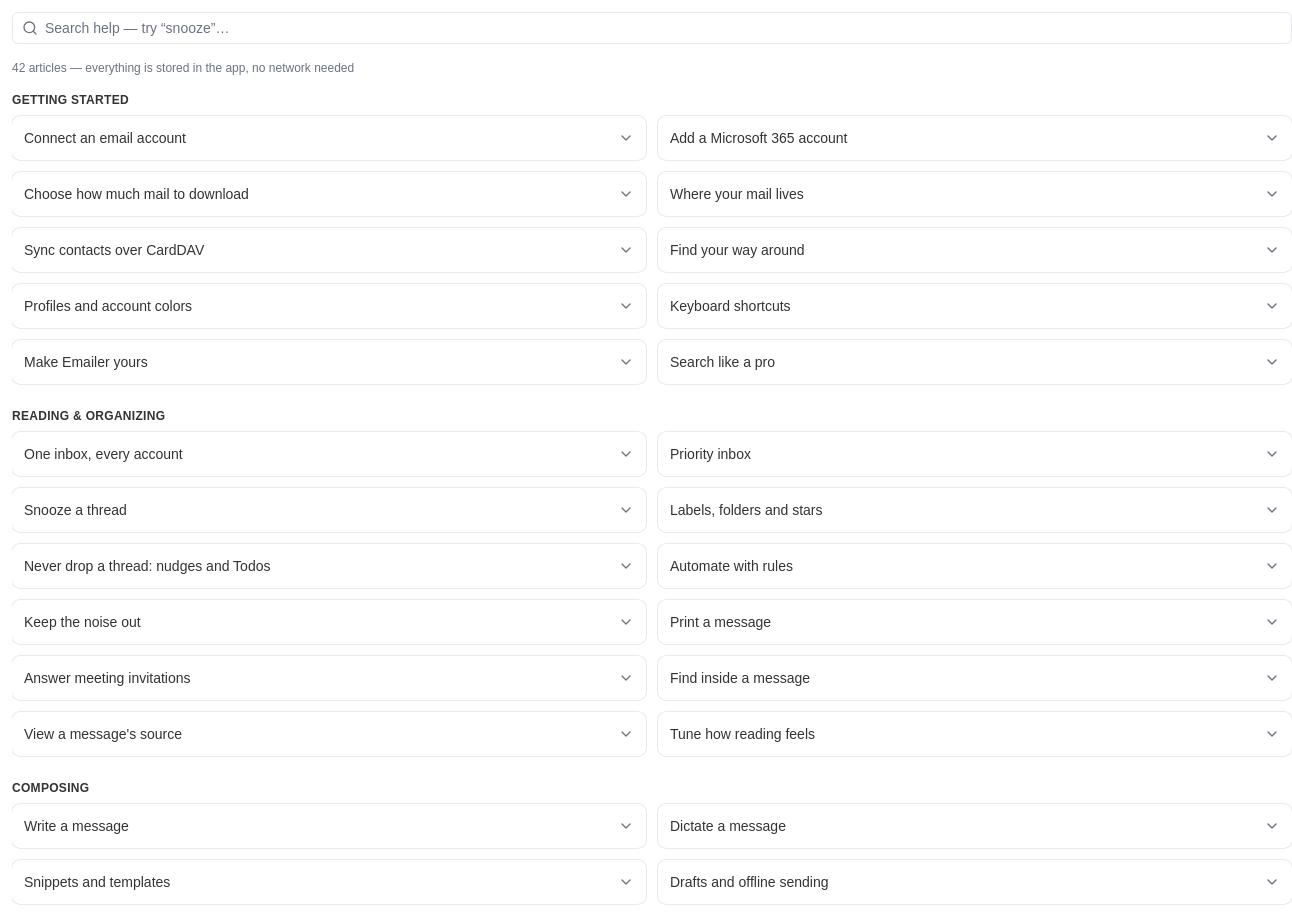
Test: HelpCenter › the shortcuts card shows the effective bindings (overrides included)
What coordinates should you click on to do the following:
click the button with test id "help-card-toggle-keyboard-shortcuts"
I would click on:
 (730, 306)
Its box is [658,284,1291,328].
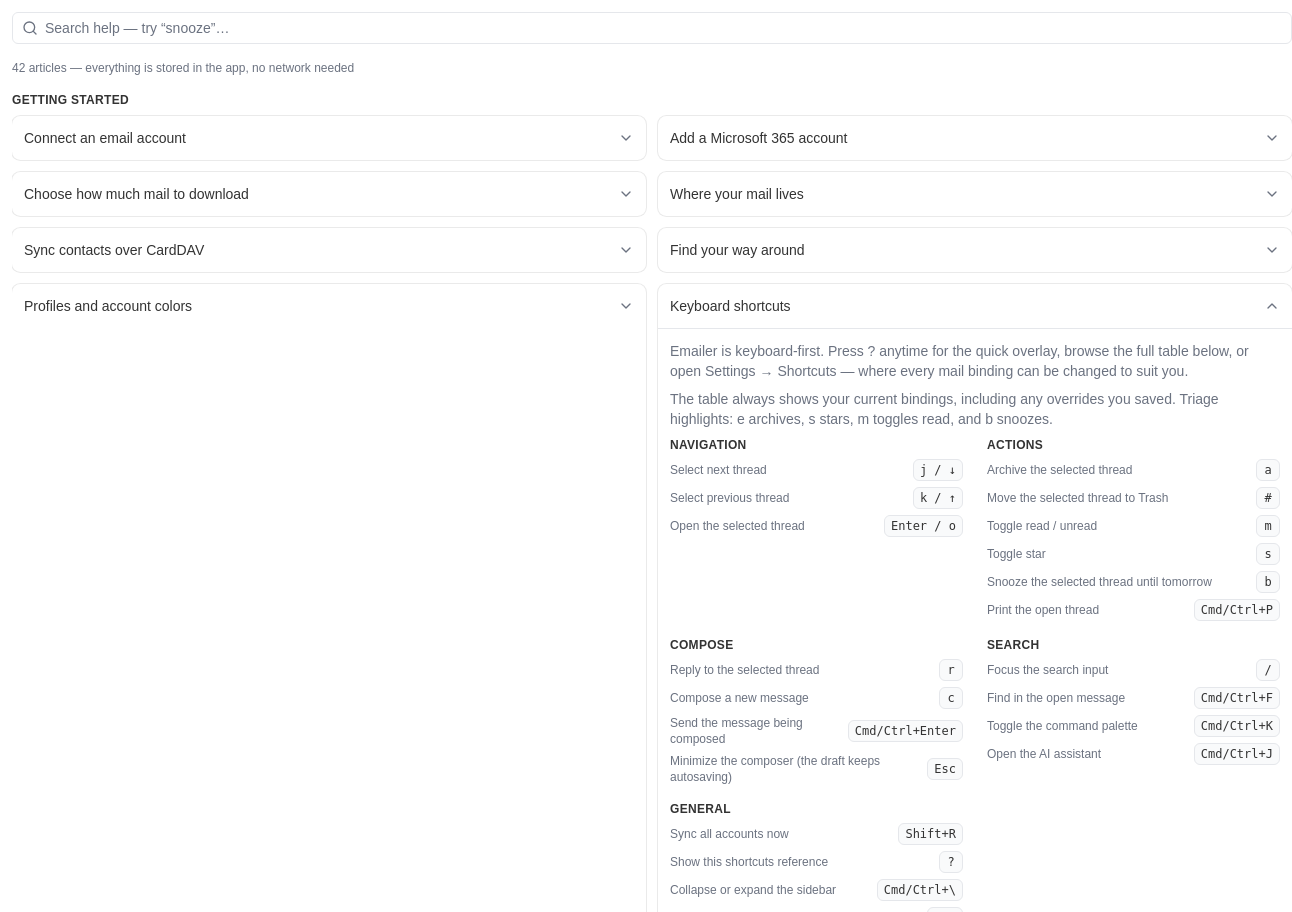
Check: the element with test id "help-shortcut-archive" shows "A", box [1264,463,1272,477]
